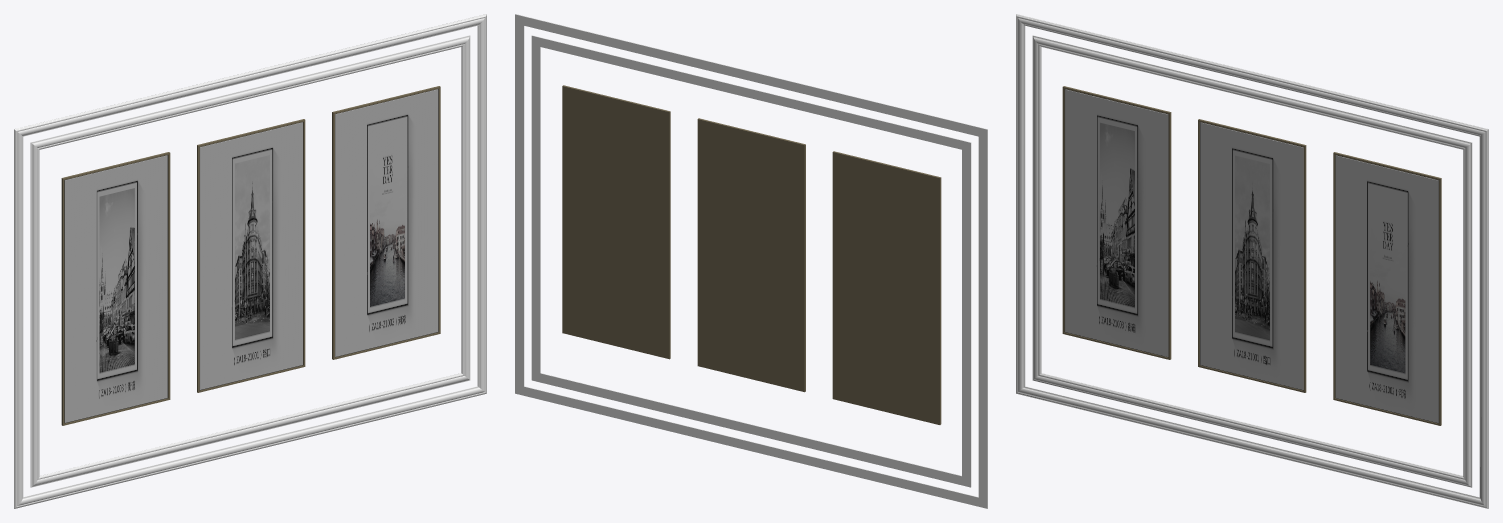
File: pic1.glb
The picture shows the model from 3 angles, left to right: view 1: azimuth 30°, elevation 25°; view 2: azimuth 150°, elevation 25°; view 3: azimuth 330°, elevation 25°; orthographic projection.
Parts seen in each view (by area): view 1: Obj3d66-745671-13-520, Obj3d66-745671-1-219, Obj3d66-745671-12-43, Obj3d66-745671-8-795, Obj3d66-745671-3-52, Obj3d66-745671-10-90, Obj3d66-745671-6-974, Obj3d66-745671-2-859; view 2: Obj3d66-745671-13-520, Obj3d66-745671-3-52, Obj3d66-745671-6-974, Obj3d66-745671-10-90; view 3: Obj3d66-745671-13-520, Obj3d66-745671-1-219, Obj3d66-745671-12-43, Obj3d66-745671-8-795, Obj3d66-745671-3-52, Obj3d66-745671-6-974, Obj3d66-745671-10-90, Obj3d66-745671-2-859, Obj3d66-745671-9-146.
Part boxes in pixels (bbox=[...]): Obj3d66-745671-13-520: bbox=[14, 14, 486, 508]; Obj3d66-745671-1-219: bbox=[64, 155, 167, 422]; Obj3d66-745671-12-43: bbox=[335, 89, 438, 356]; Obj3d66-745671-8-795: bbox=[199, 122, 302, 389]; Obj3d66-745671-3-52: bbox=[61, 152, 170, 425]; Obj3d66-745671-10-90: bbox=[332, 86, 440, 359]; Obj3d66-745671-6-974: bbox=[197, 119, 305, 392]; Obj3d66-745671-2-859: bbox=[64, 155, 167, 423]; Obj3d66-745671-13-520: bbox=[515, 14, 987, 508]; Obj3d66-745671-3-52: bbox=[832, 151, 941, 424]; Obj3d66-745671-6-974: bbox=[697, 118, 805, 392]; Obj3d66-745671-10-90: bbox=[562, 85, 670, 359]; Obj3d66-745671-13-520: bbox=[1016, 14, 1488, 508]; Obj3d66-745671-1-219: bbox=[1065, 89, 1168, 356]; Obj3d66-745671-12-43: bbox=[1335, 155, 1438, 422]; Obj3d66-745671-8-795: bbox=[1200, 122, 1303, 389]; Obj3d66-745671-3-52: bbox=[1062, 86, 1171, 359]; Obj3d66-745671-6-974: bbox=[1198, 119, 1306, 392]; Obj3d66-745671-10-90: bbox=[1333, 152, 1441, 425]; Obj3d66-745671-2-859: bbox=[1064, 89, 1168, 357]; Obj3d66-745671-9-146: bbox=[1335, 155, 1438, 423].
Size of the model in its own units: 1.19 by 0.9107 by 0.00569.
6 materials, 3 textured.
